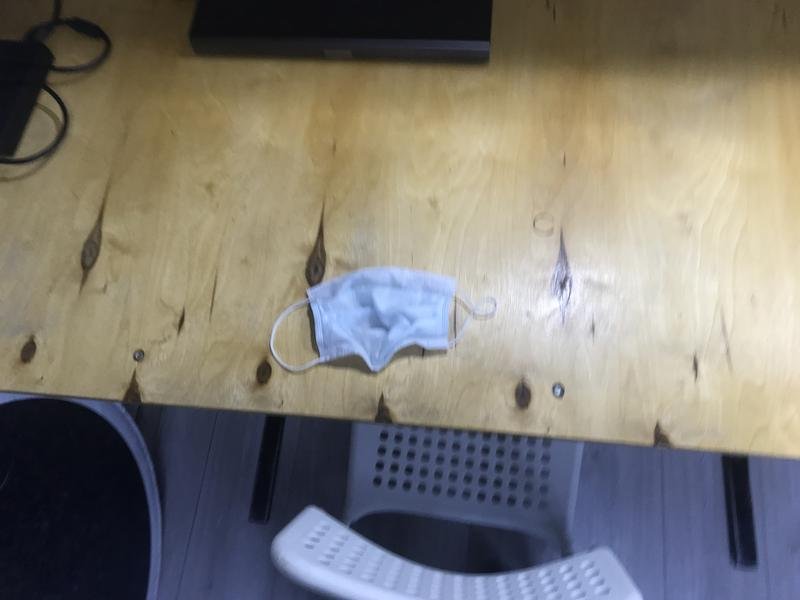medical_mask: (270, 268, 497, 373)
